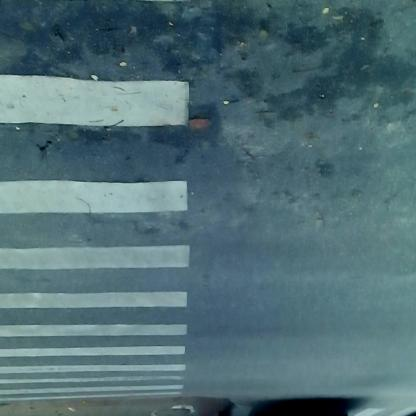crosswalk: (1, 38, 192, 398)
